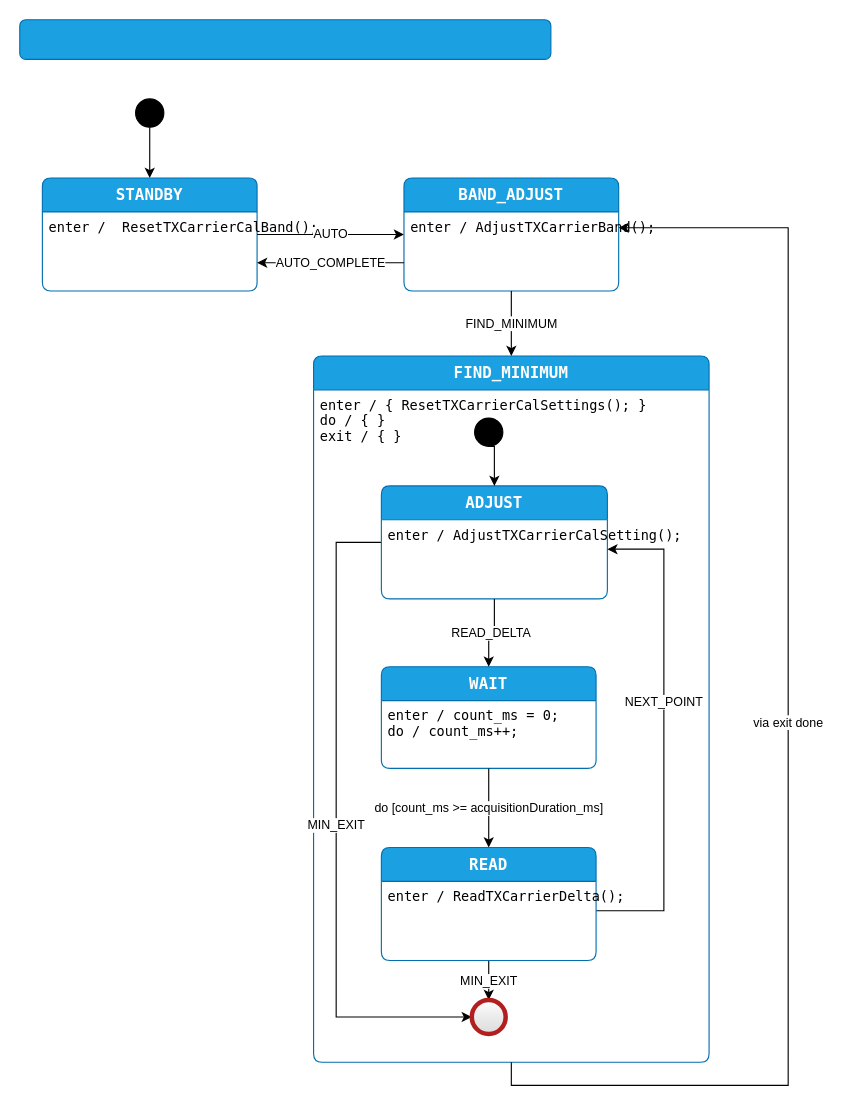
Image size: 843x1114. Some labels were removed from this diagram. The centre of each missing label's shape, as x and y in pixels:
$STATEMACHINE : TransmitCarrierCalSm: the point at 285,39
exit : done: the point at 488,1016
